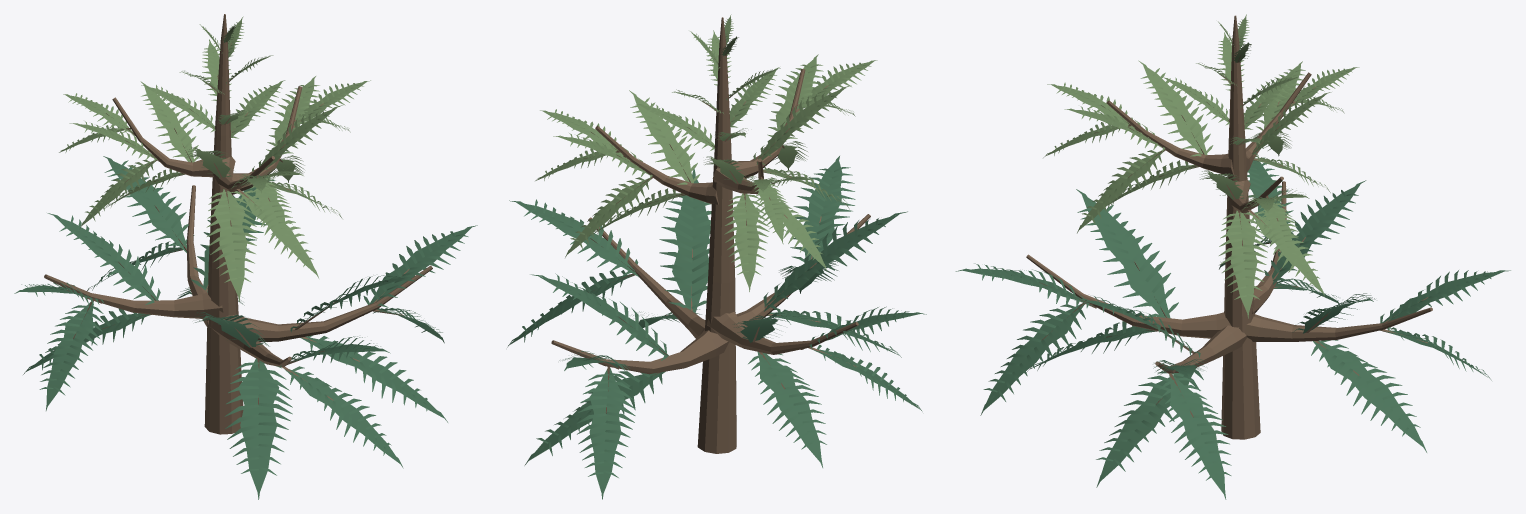
File: conifer-upper.glb
The picture shows the model from 3 angles, left to right: view 1: azimuth 30°, elevation 25°; view 2: azimuth 150°, elevation 25°; view 3: azimuth 270°, elevation 25°; orthographic projection. The views are drawn at different scales.
Parts seen in each view (by area): view 1: Frozen r17 A needle strips in local overlapping clusters, Unchanged main wood prefix plus fine supports; view 2: Frozen r17 A needle strips in local overlapping clusters, Unchanged main wood prefix plus fine supports; view 3: Frozen r17 A needle strips in local overlapping clusters, Unchanged main wood prefix plus fine supports.
Boxes of the visible parts, left/top/right/bottom form: Frozen r17 A needle strips in local overlapping clusters: left=14, top=16, right=477, bottom=499; Unchanged main wood prefix plus fine supports: left=44, top=14, right=432, bottom=434; Frozen r17 A needle strips in local overlapping clusters: left=507, top=14, right=926, bottom=499; Unchanged main wood prefix plus fine supports: left=551, top=17, right=870, bottom=453; Frozen r17 A needle strips in local overlapping clusters: left=955, top=14, right=1510, bottom=499; Unchanged main wood prefix plus fine supports: left=1026, top=15, right=1432, bottom=439.
Bounding box in the file's own units: 2.23 × 2.03 × 2.47.
